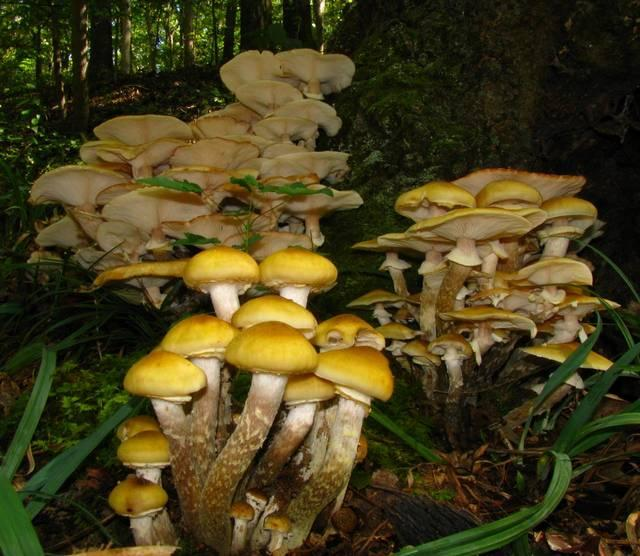edible_mushroom: (26, 44, 620, 555)
